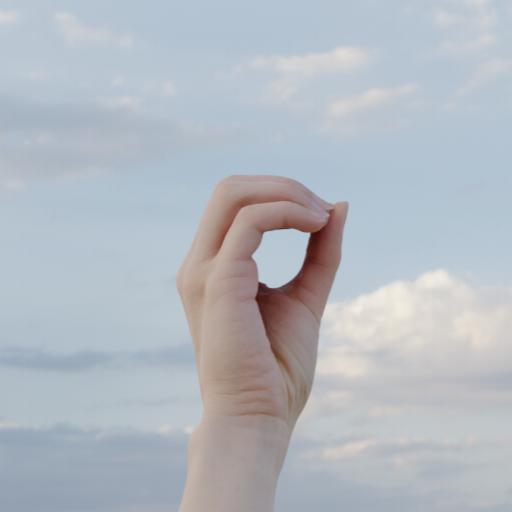O: (151, 135, 379, 421)
